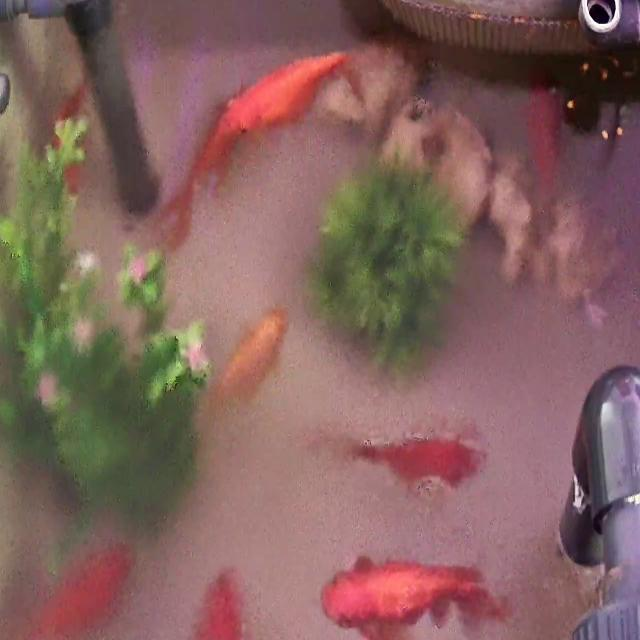fish: (205, 47, 340, 159), (325, 556, 499, 640), (158, 101, 250, 254), (0, 540, 136, 640), (200, 308, 286, 430), (352, 429, 483, 492), (188, 564, 264, 640), (525, 76, 563, 202), (49, 78, 91, 188)
